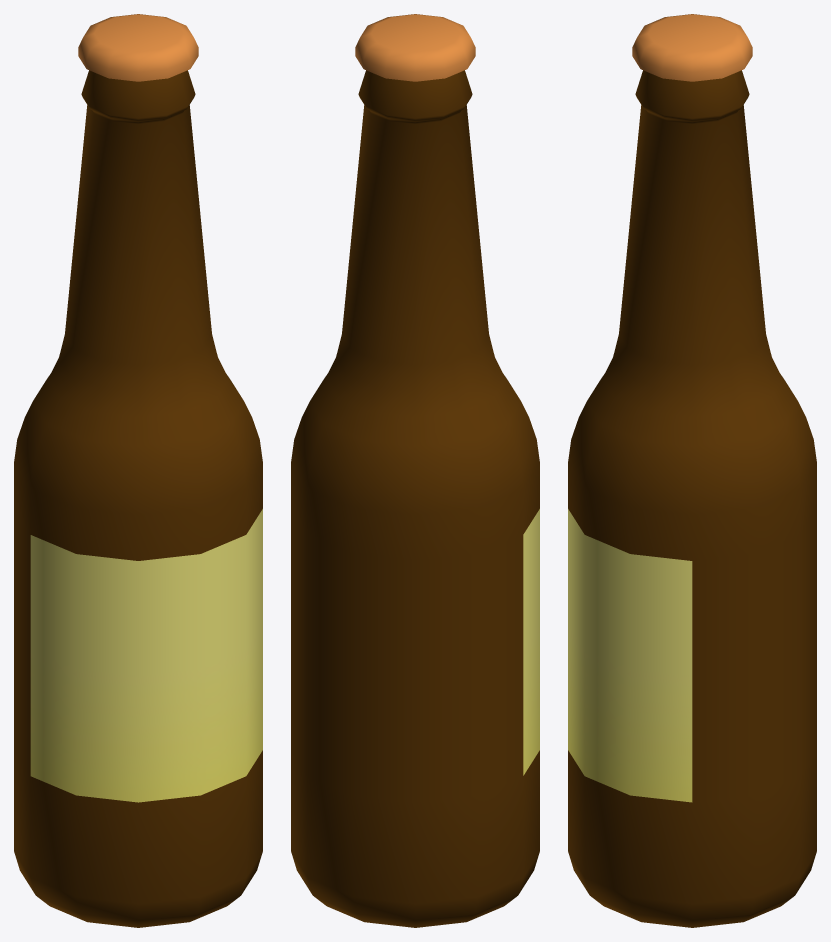
File: Bottle_of_beer_02.fbx
The picture shows the model from 3 angles, left to right: view 1: azimuth 30°, elevation 25°; view 2: azimuth 150°, elevation 25°; view 3: azimuth 270°, elevation 25°; orthographic projection.
Visible parts, largest first — view 1: Bottle_of_beer_02; view 2: Bottle_of_beer_02; view 3: Bottle_of_beer_02.
Part boxes in pixels (box(x1,y1,x2,y2)): Bottle_of_beer_02: box(14, 14, 262, 927); Bottle_of_beer_02: box(291, 14, 539, 927); Bottle_of_beer_02: box(568, 14, 816, 927).
Bounding box in the file's own units: 65.6 × 65.6 × 249.
